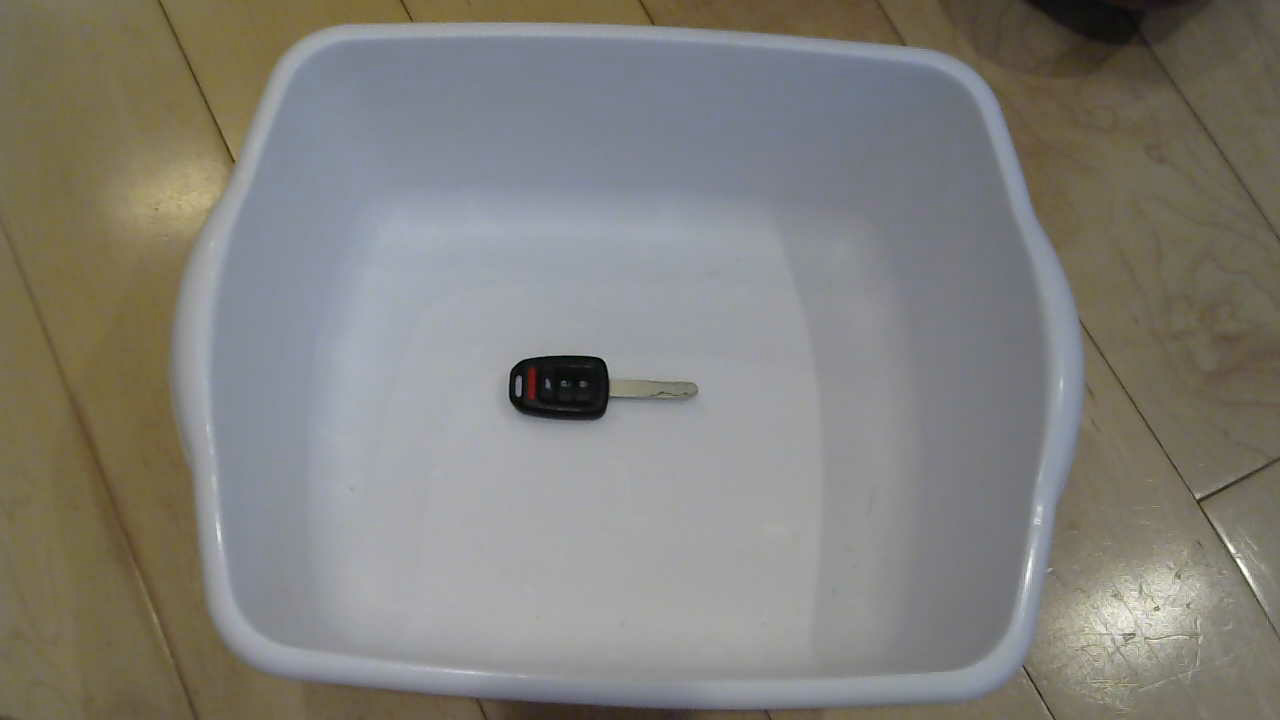key: (494, 347, 720, 443)
